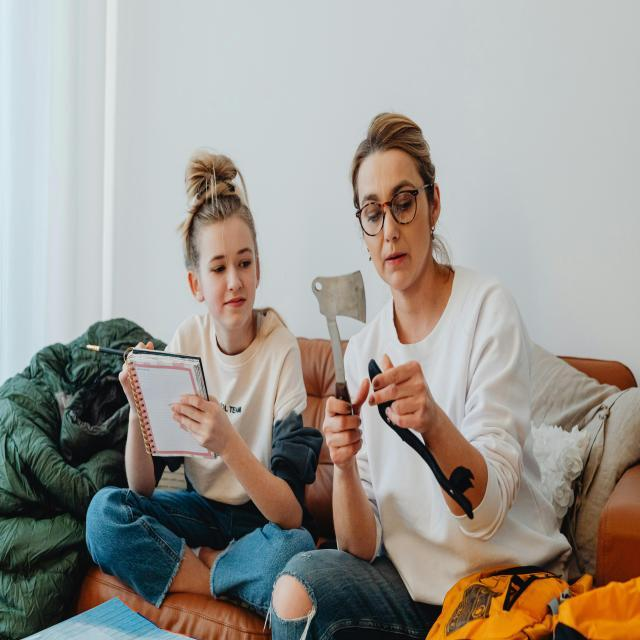Axe: (311, 271, 366, 402)
